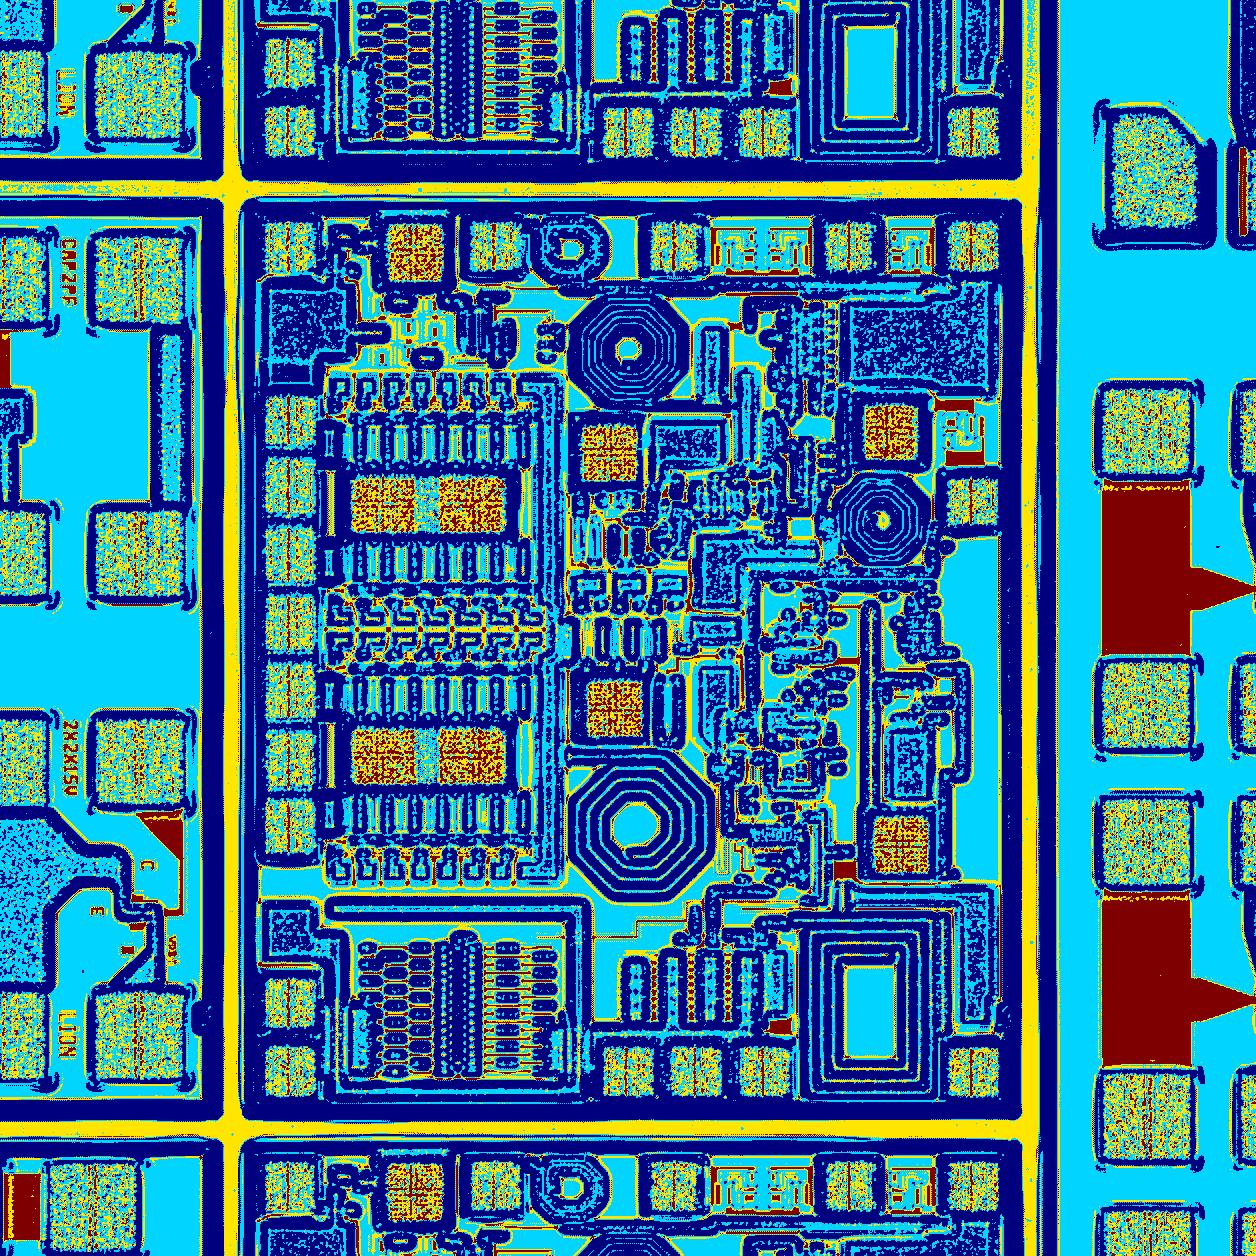Die: (237, 194, 1023, 1123)
Pad 1: (437, 473, 506, 534), (437, 725, 507, 784), (350, 727, 420, 784), (350, 473, 416, 533), (580, 420, 640, 482), (872, 814, 930, 874), (585, 677, 642, 737), (386, 224, 443, 282), (861, 403, 918, 460)
Pad 2: (266, 524, 316, 585), (265, 593, 315, 654), (265, 661, 315, 722), (266, 729, 315, 791), (266, 457, 315, 518), (265, 797, 315, 853), (265, 395, 316, 449), (602, 1046, 654, 1097), (265, 222, 316, 274), (265, 1046, 316, 1097), (738, 1046, 789, 1097), (265, 978, 315, 1029), (948, 1047, 1000, 1097), (671, 1046, 721, 1097), (470, 222, 522, 271), (945, 478, 1000, 526), (948, 222, 998, 271), (650, 222, 698, 271), (826, 222, 872, 270)
